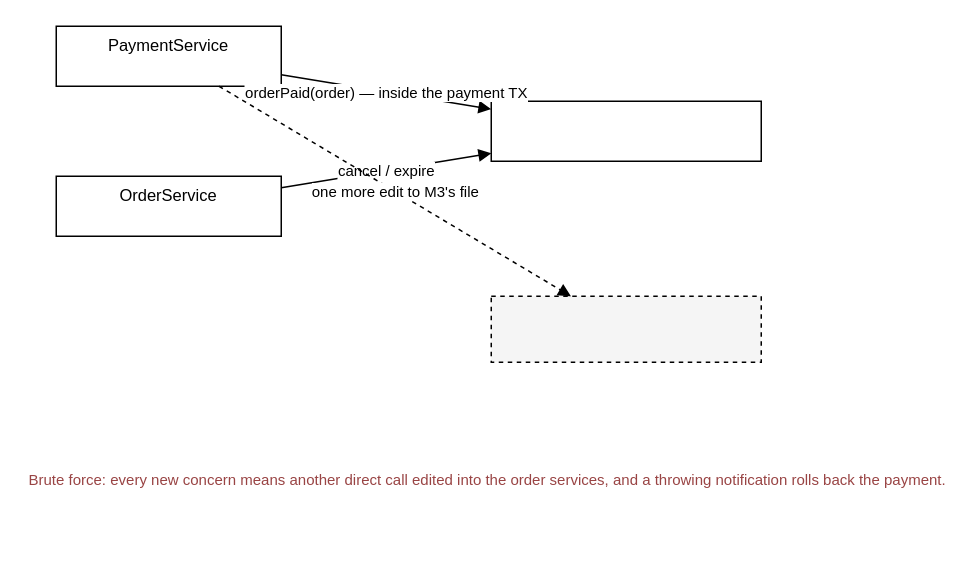
The diagram is 971 pixels wide and 578 high, and some of its shapes have lost their labels. Each missing label, with the box of its shape:
CreditScoreService (next sprint): (490, 295, 761, 362)
NotificationService: (490, 100, 761, 161)
